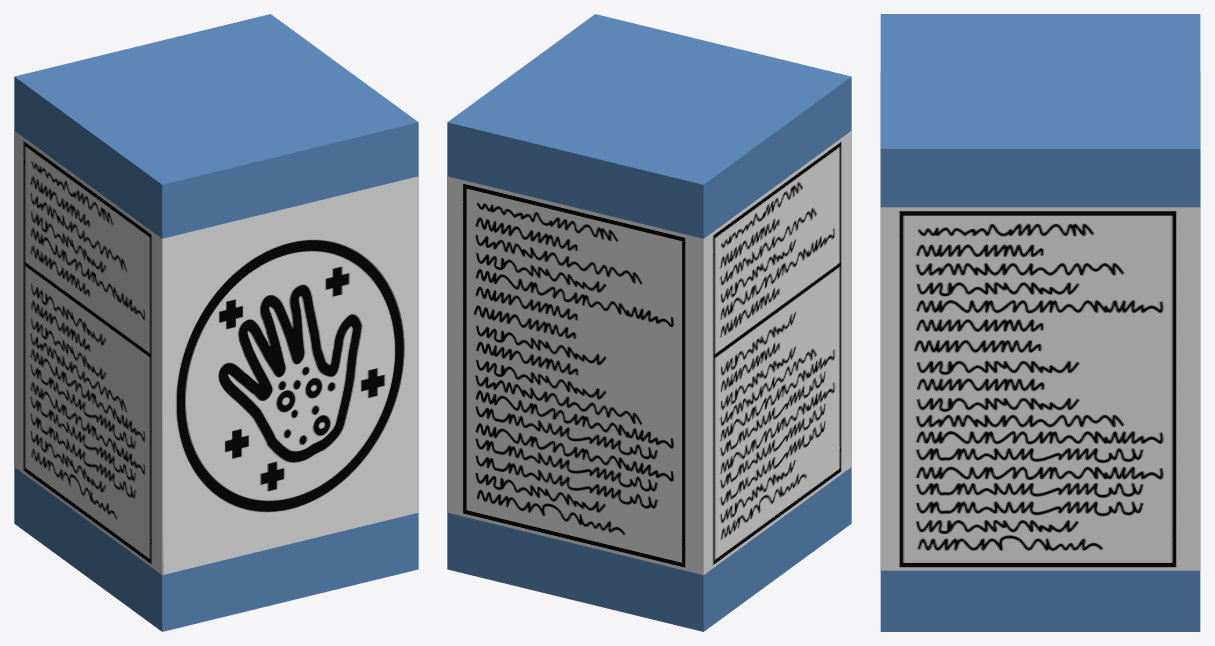
File: rashCreamOTC.fbx
3 views of the same model, side by side, from view 1: azimuth 30°, elevation 25°; view 2: azimuth 150°, elevation 25°; view 3: azimuth 270°, elevation 25° (orthographic). The views are drawn at different scales.
Visible parts, largest first — view 1: rashCreamLabel, allergiesBox; view 2: rashCreamLabel, allergiesBox; view 3: rashCreamLabel, allergiesBox.
Part boxes in pixels (box(x1,y1,x2,y2)): rashCreamLabel: box(14, 130, 418, 574); allergiesBox: box(14, 14, 418, 631); rashCreamLabel: box(447, 130, 851, 575); allergiesBox: box(447, 14, 851, 631); rashCreamLabel: box(880, 72, 1200, 570); allergiesBox: box(880, 14, 1200, 631).
Size of the model in its own units: 12.01 by 20 by 12.01.
